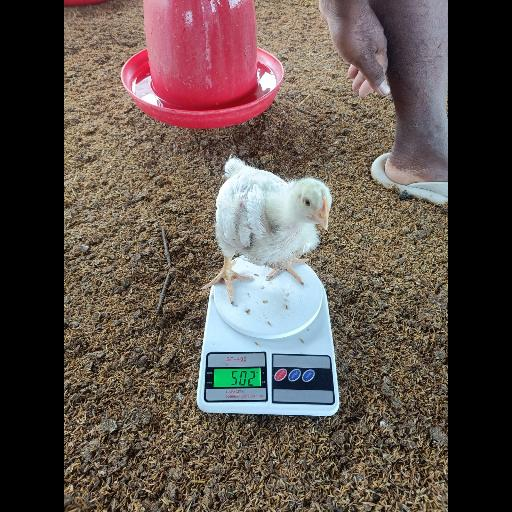chick: (202, 157, 332, 304)
